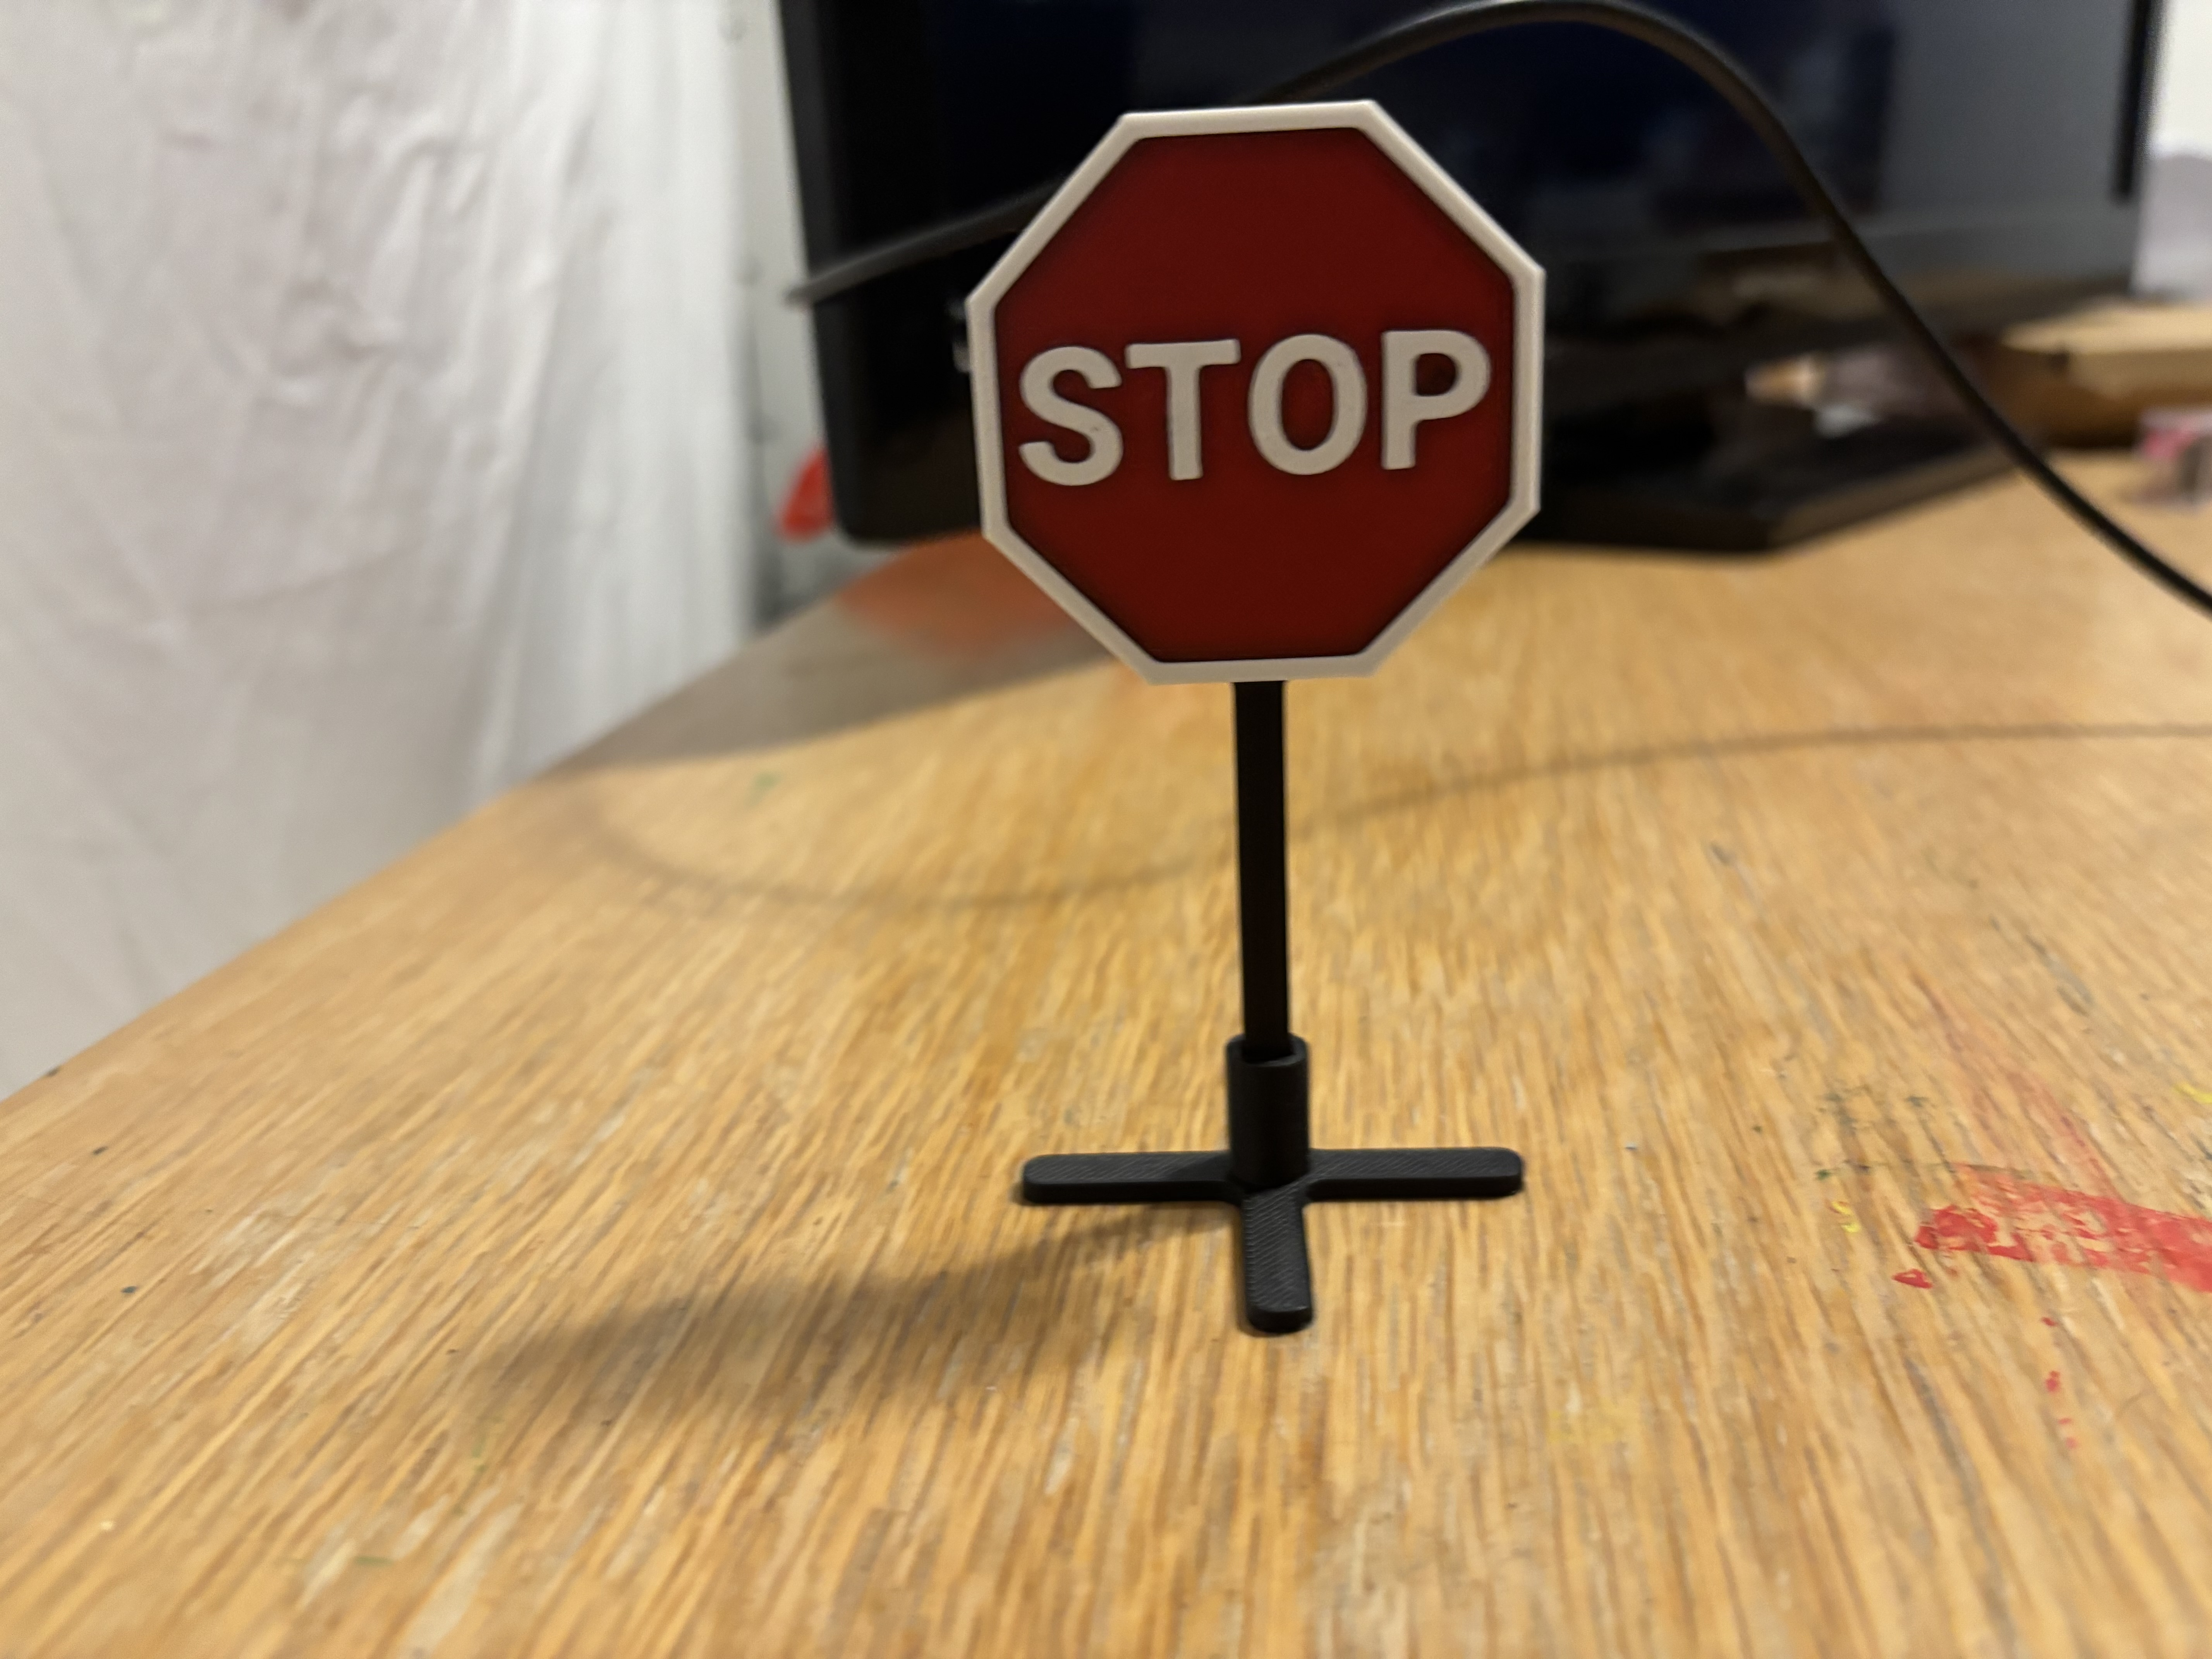sign_stop: (954, 94, 1557, 681)
